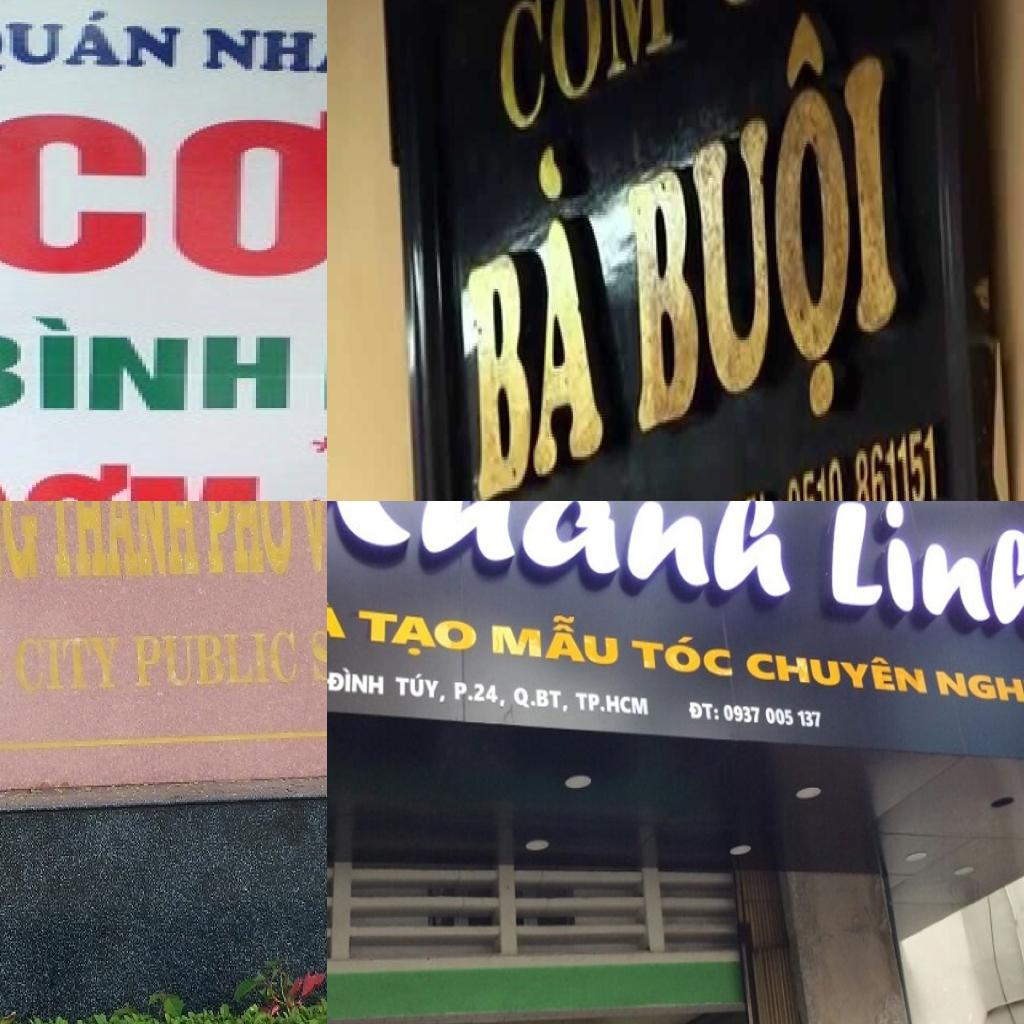text: (607, 0, 916, 492), (0, 94, 327, 292), (454, 130, 613, 501), (327, 501, 797, 607), (0, 309, 305, 416), (490, 0, 677, 156), (826, 501, 1024, 638), (0, 2, 195, 88), (40, 501, 201, 581), (132, 626, 302, 690), (744, 643, 930, 697), (195, 11, 327, 85), (490, 609, 621, 670), (200, 501, 297, 580), (357, 607, 481, 664), (13, 634, 122, 698), (630, 627, 736, 680), (932, 663, 1024, 716), (722, 702, 823, 731), (575, 690, 651, 719), (394, 669, 448, 707), (327, 664, 386, 698), (512, 684, 570, 716), (453, 680, 508, 710), (724, 478, 789, 501), (686, 698, 722, 723)
